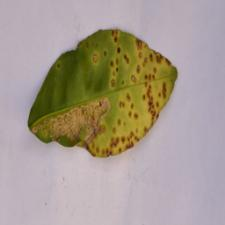Canker: (32, 29, 178, 158)
